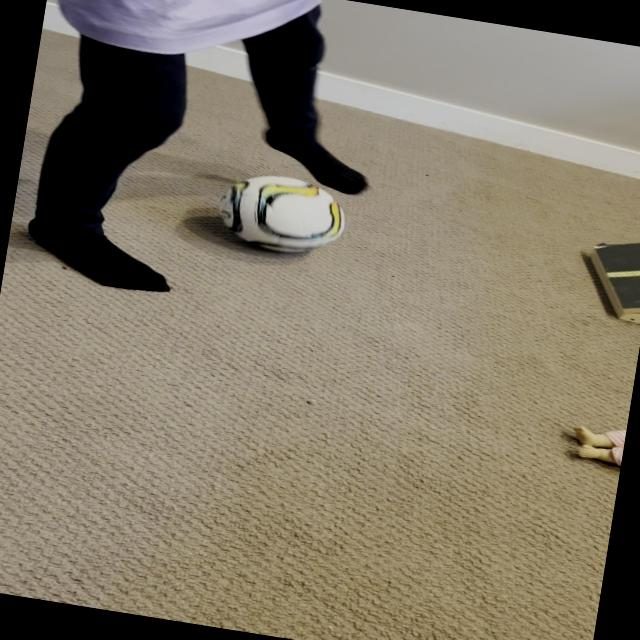Soccer Ball: (214, 168, 352, 262)
